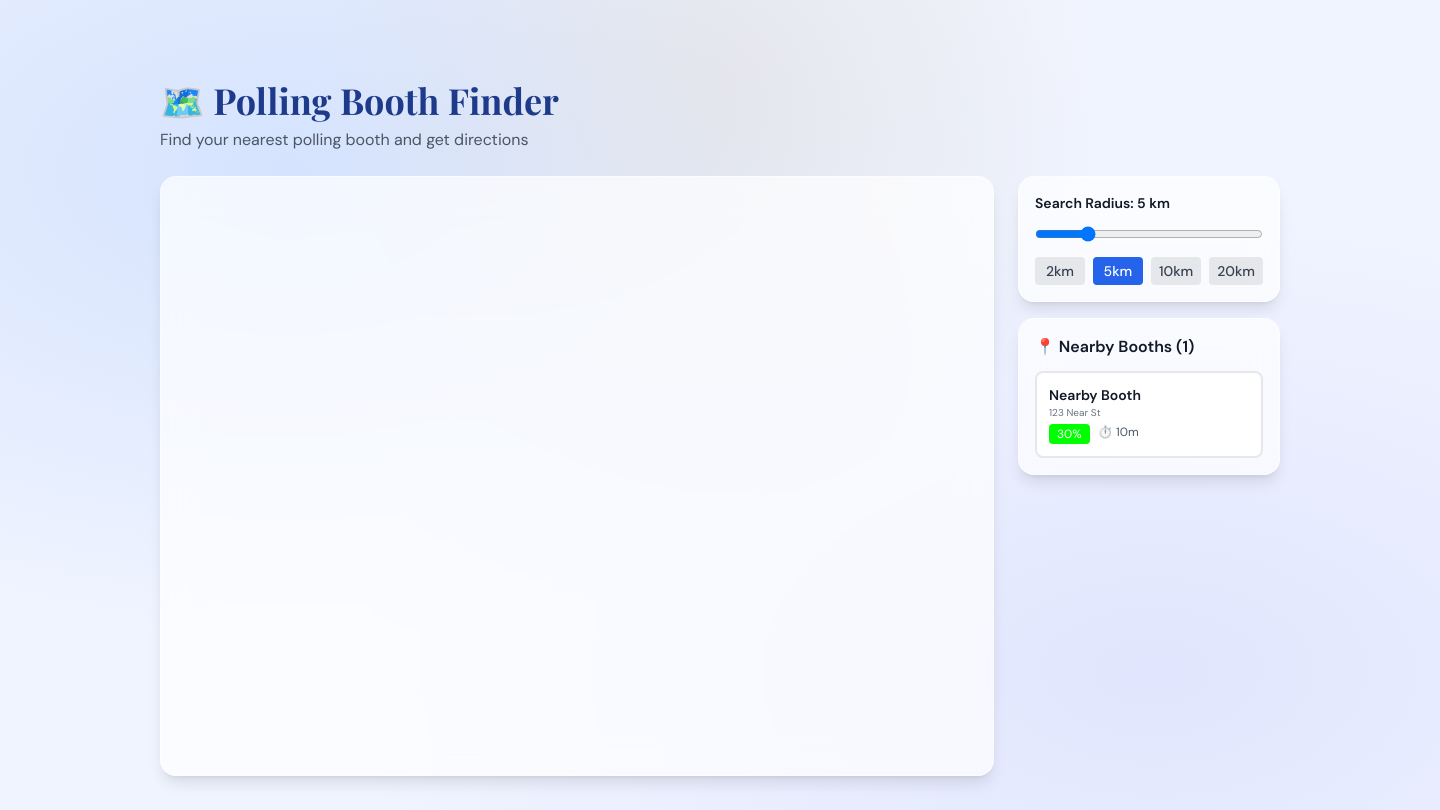
Scenario: PollingBoothFinder › handles search radius changes
Expected: the text "Nearby Booth" is shown, [1049, 386, 1141, 404]
Note: Change radius to 10km
Click the button "10km". click: [1176, 271]
box: [1151, 257, 1201, 285]
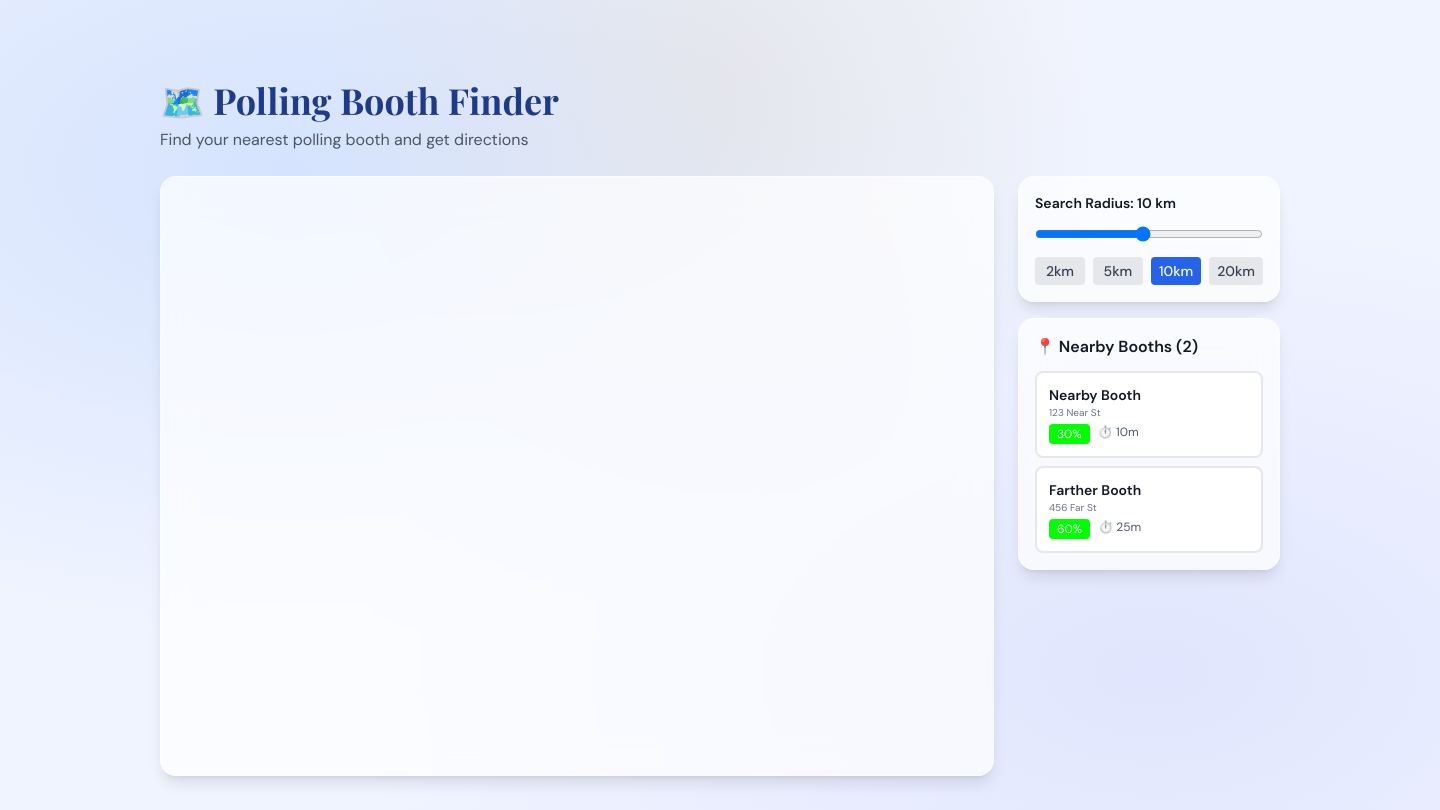
Expected: the text "Farther Booth" is shown, [1049, 481, 1141, 499]
Expected: the heading "📍 Nearby Booths (2)" is shown, [1035, 336, 1198, 357]
